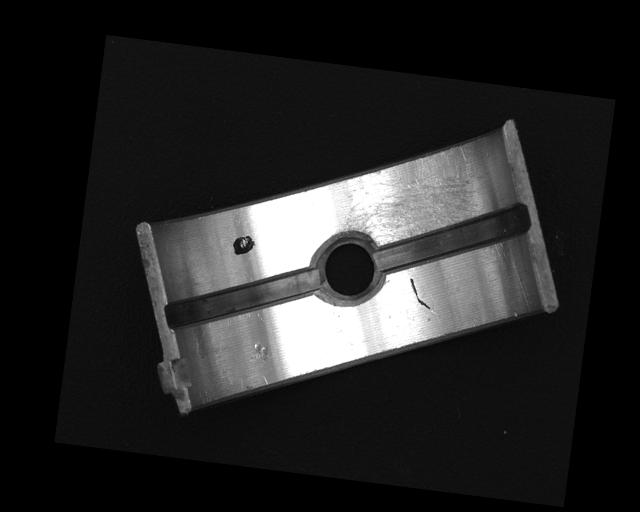blot: (231, 233, 256, 257)
bruise: (247, 340, 273, 366)
gap: (370, 186, 532, 290), (163, 250, 319, 343)
hole: (310, 229, 387, 307)
nick: (406, 275, 435, 310)
scratch: (336, 131, 487, 261)
